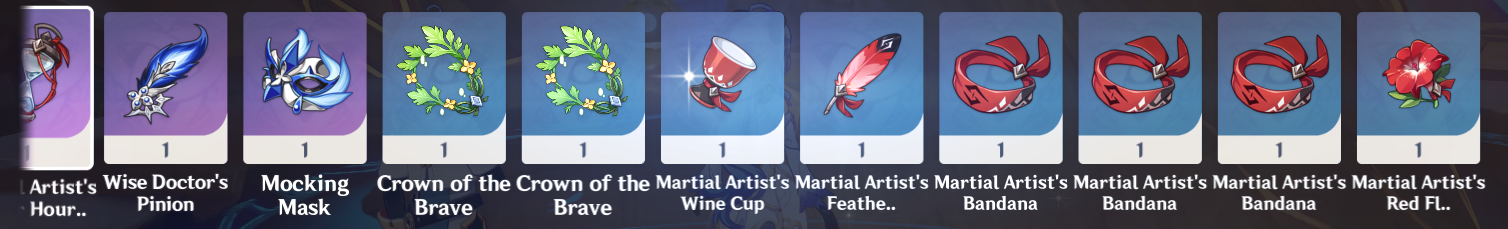3 star artifact: (1069, 6, 1212, 170), (1350, 10, 1492, 171), (656, 6, 793, 171), (1213, 7, 1349, 173), (377, 10, 515, 170), (796, 7, 930, 168), (933, 10, 1067, 168), (519, 8, 647, 168)
4 star artifact: (99, 7, 236, 170), (237, 8, 373, 171)
